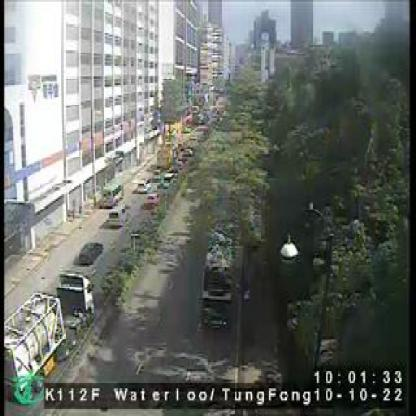Bus: (201, 225, 234, 332)
Car: (77, 240, 104, 265), (109, 204, 127, 226), (135, 178, 149, 192), (147, 194, 160, 208)
Minibus: (102, 178, 123, 208)
